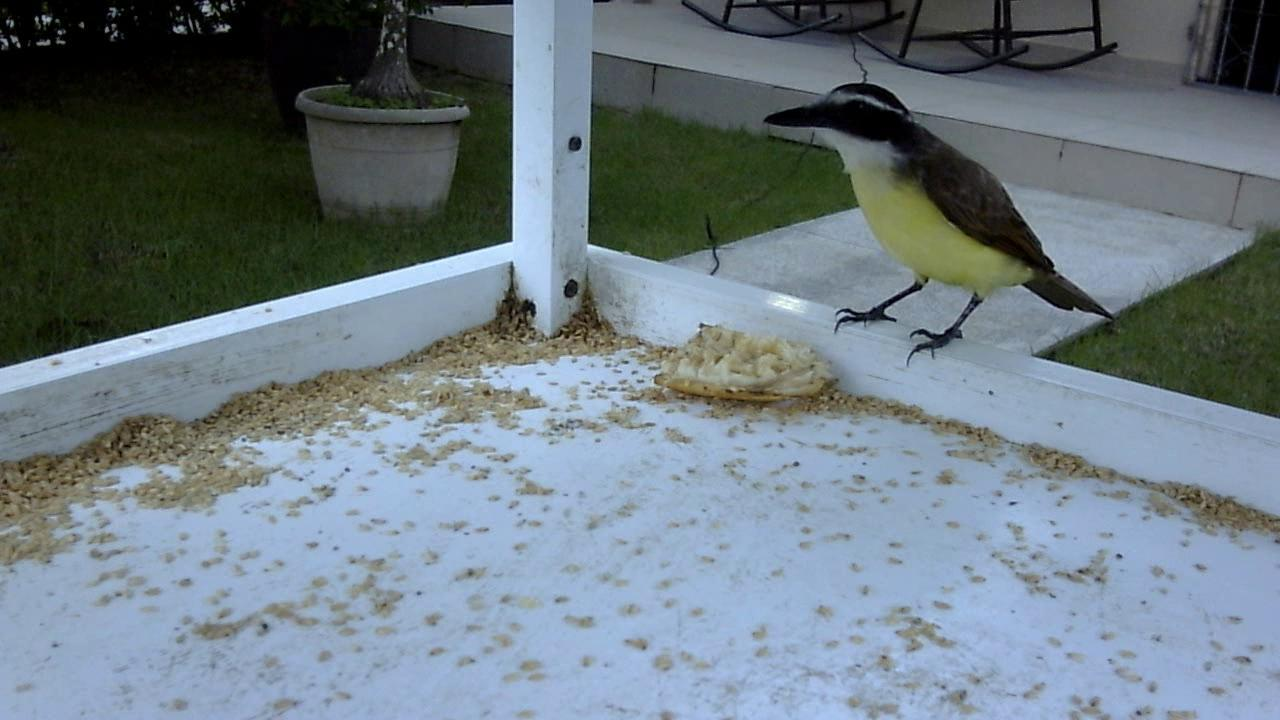bem_te_vi: (740, 75, 1138, 385)
